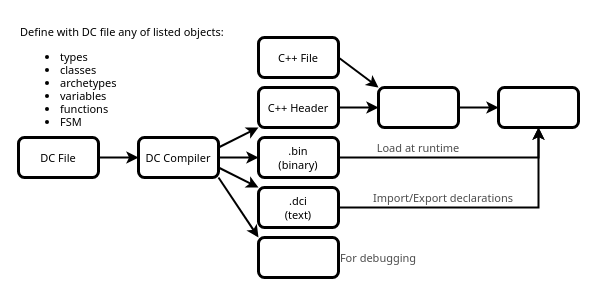
Some shapes in this 597 by 296 pixel diagram are drawn without their labels. The box of each missing label's shape, as (x1, y1, x2, y2) in pixels:
.sid: (256, 236, 340, 278)
C Compiler: (376, 86, 460, 128)
Game Runtime: (496, 86, 580, 128)
